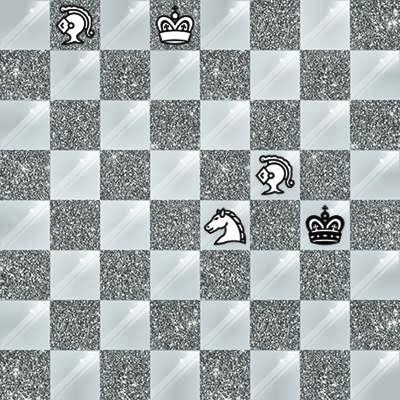black-king: (300, 200, 350, 250)
white-bishop: (50, 0, 100, 50), (250, 150, 300, 200)
white-king: (150, 0, 200, 50)
white-knight: (200, 200, 250, 250)
